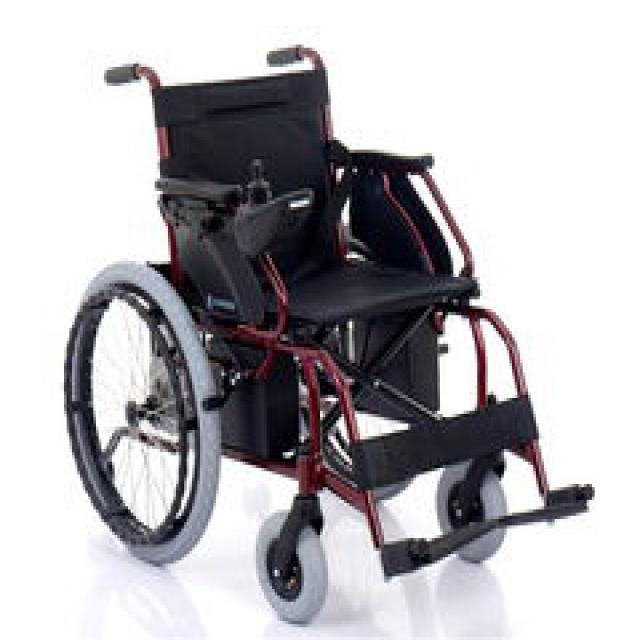wheelchair: (56, 41, 635, 624)
